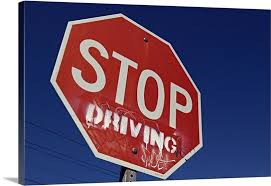Stop: (50, 6, 214, 183)
